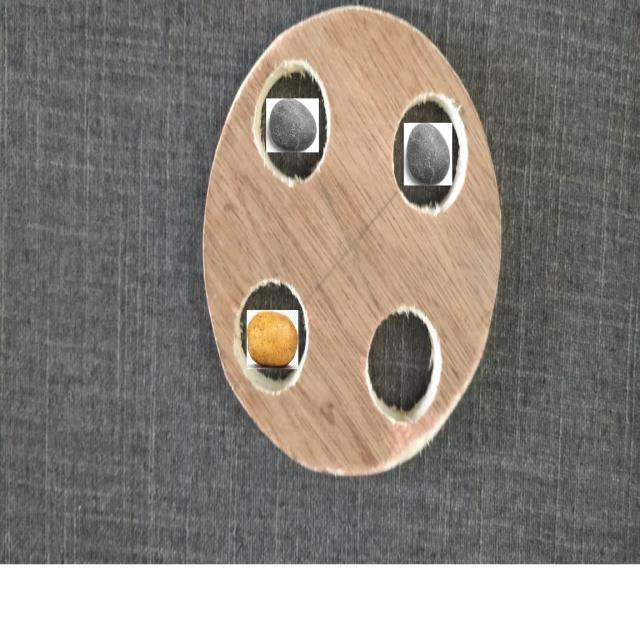potato: (248, 312, 298, 366)
